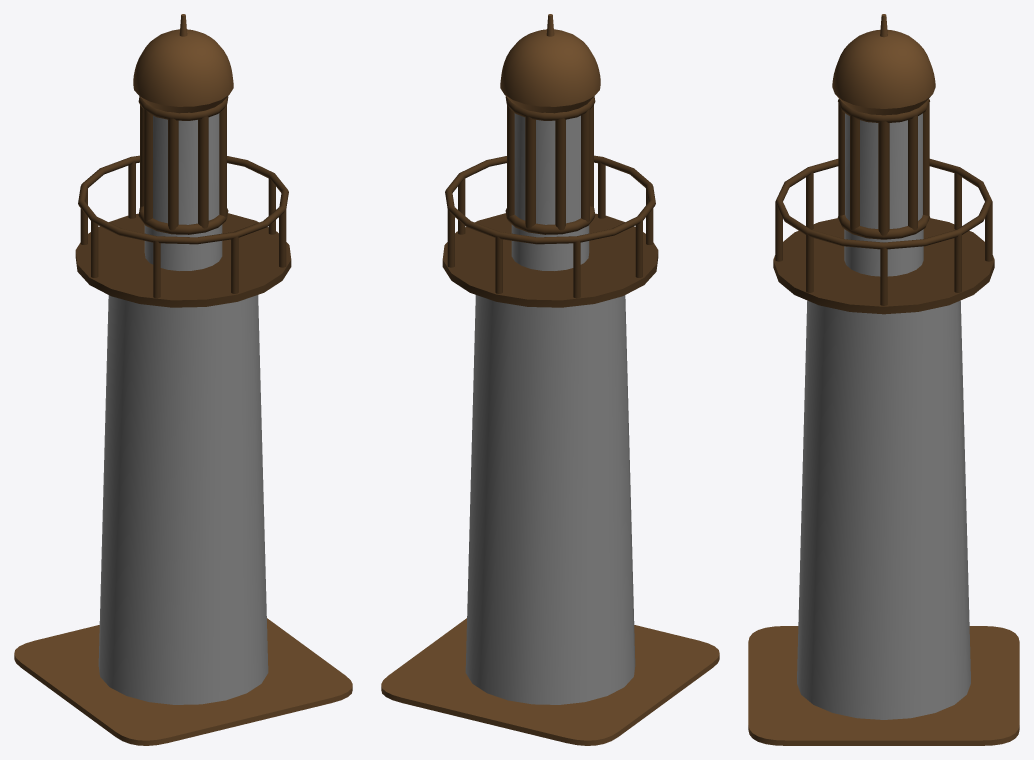
The model's file is Lighthouses(1).glb.
3 renders of one model, left to right at view 1: azimuth 30°, elevation 25°; view 2: azimuth 150°, elevation 25°; view 3: azimuth 270°, elevation 25°, orthographic. The views are drawn at different scales.
Visible parts, largest first — view 1: Root; view 2: Root; view 3: Root.
Part boxes in pixels (box(x1,y1,x2,y2)): Root: box(14, 14, 352, 745); Root: box(381, 14, 719, 745); Root: box(748, 14, 1019, 745).
Bounding box in the file's own units: 2.67 × 7.31 × 2.67.
